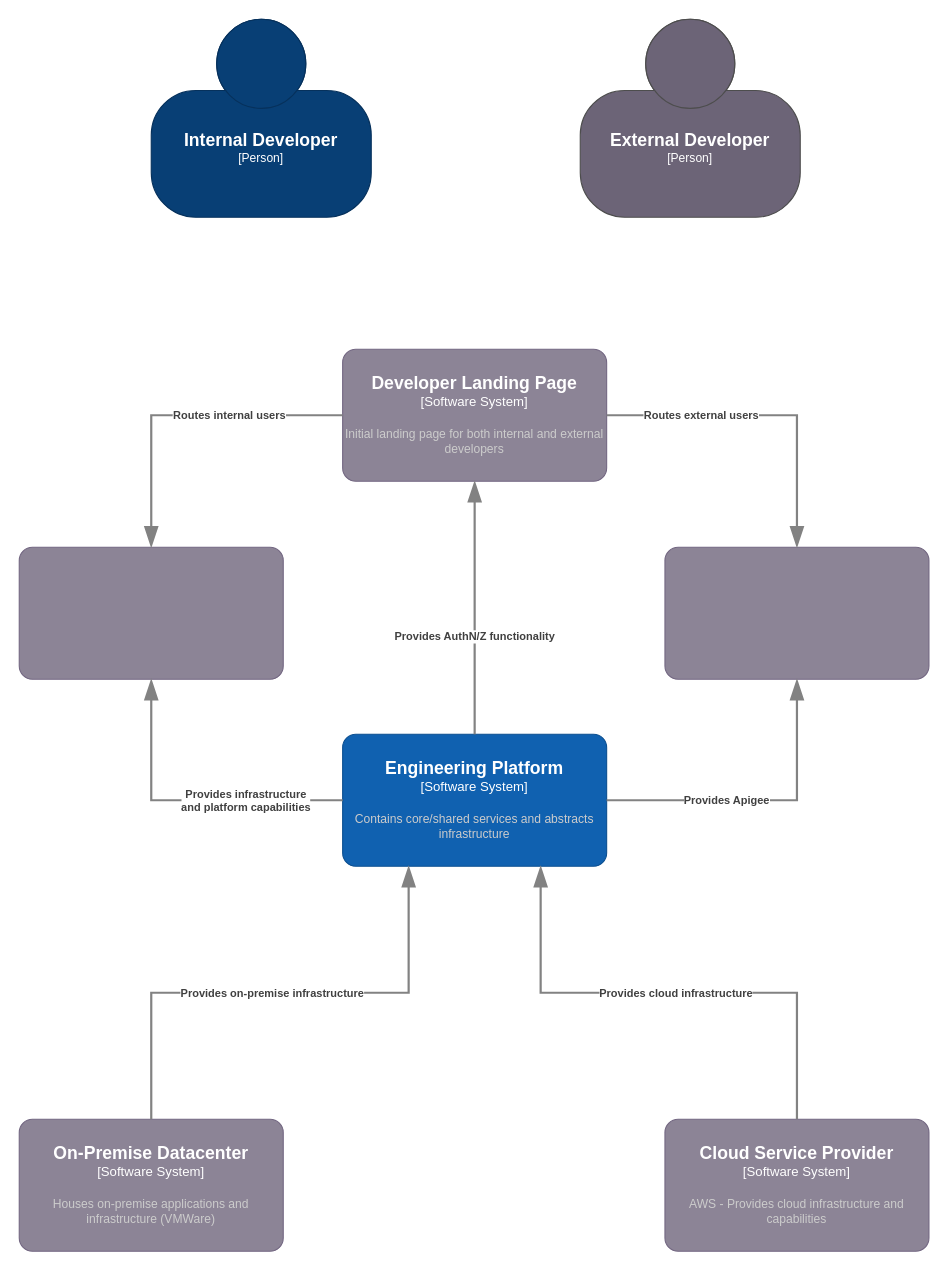
Image size: 948x1271. Some labels were removed from this diagram. The centre of each missing label's shape, as x and y in pixels:
External Developer Portal [Software System] Apigee Portal: [796,612]
Internal Developer Portal [Software System] Backstage: [150,612]
